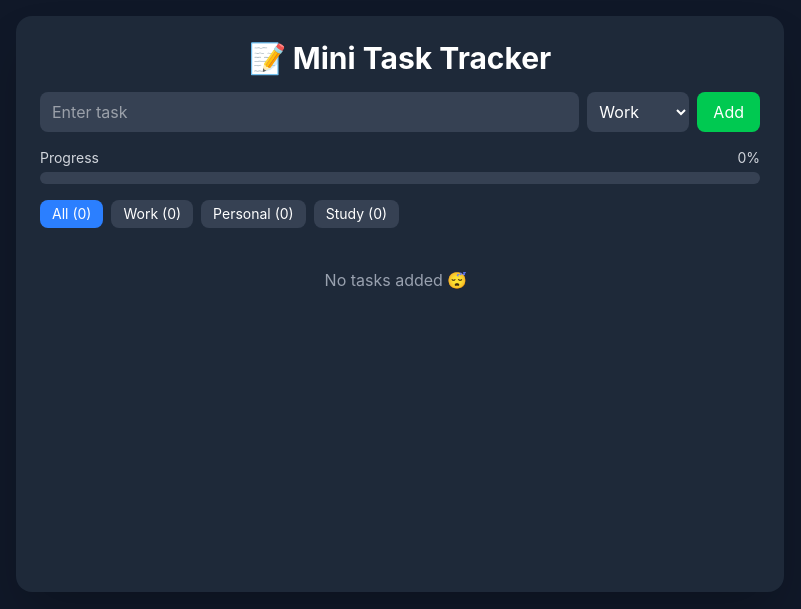
Test case: App - Task Tracker › adds a task and displays it
Type "Test Task" into the field at point(310, 112), box [40, 92, 579, 132]
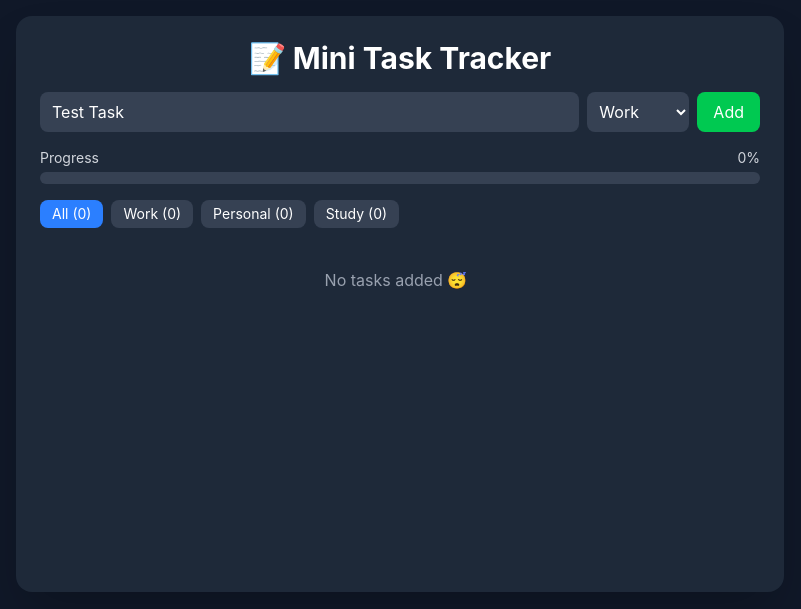
Click the button "Add" at point(729, 112), box [697, 92, 760, 132]
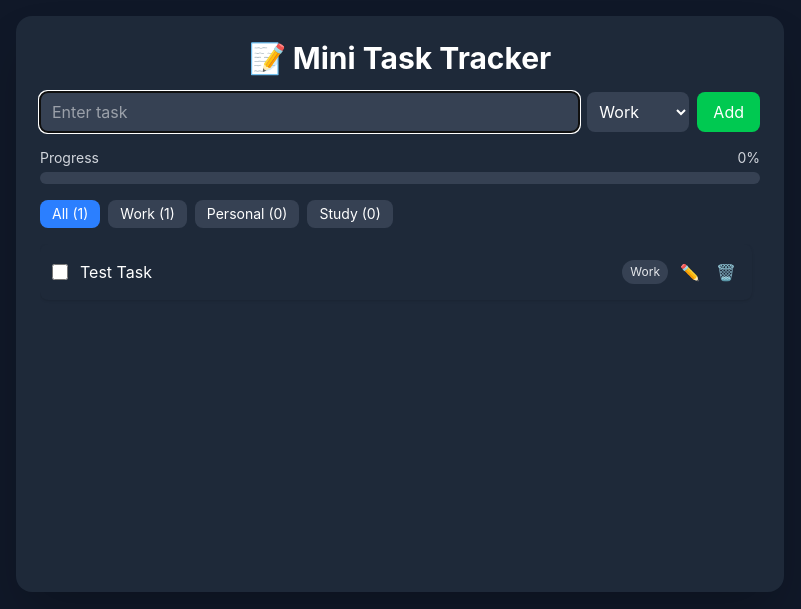
Now the text "Test Task" is shown, box [80, 260, 152, 284]
